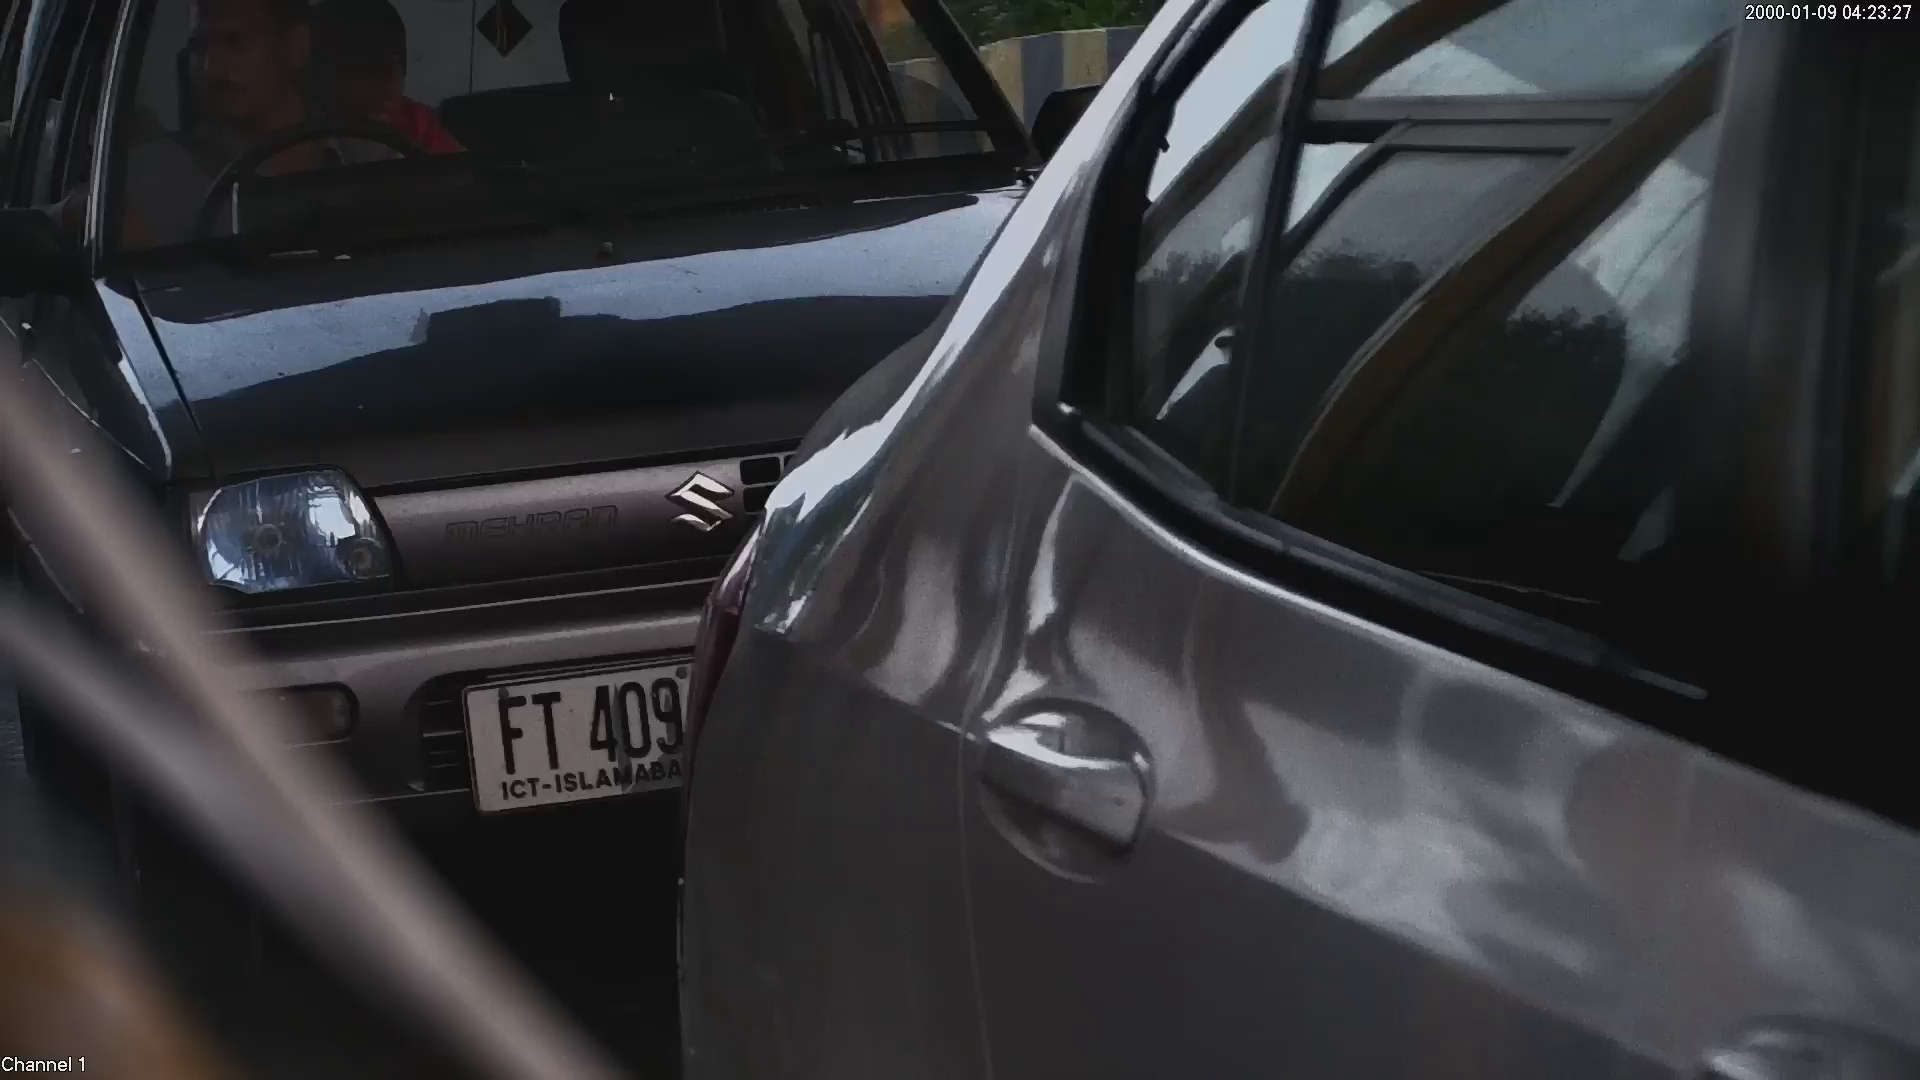Number_Plate: (450, 673, 700, 799)
